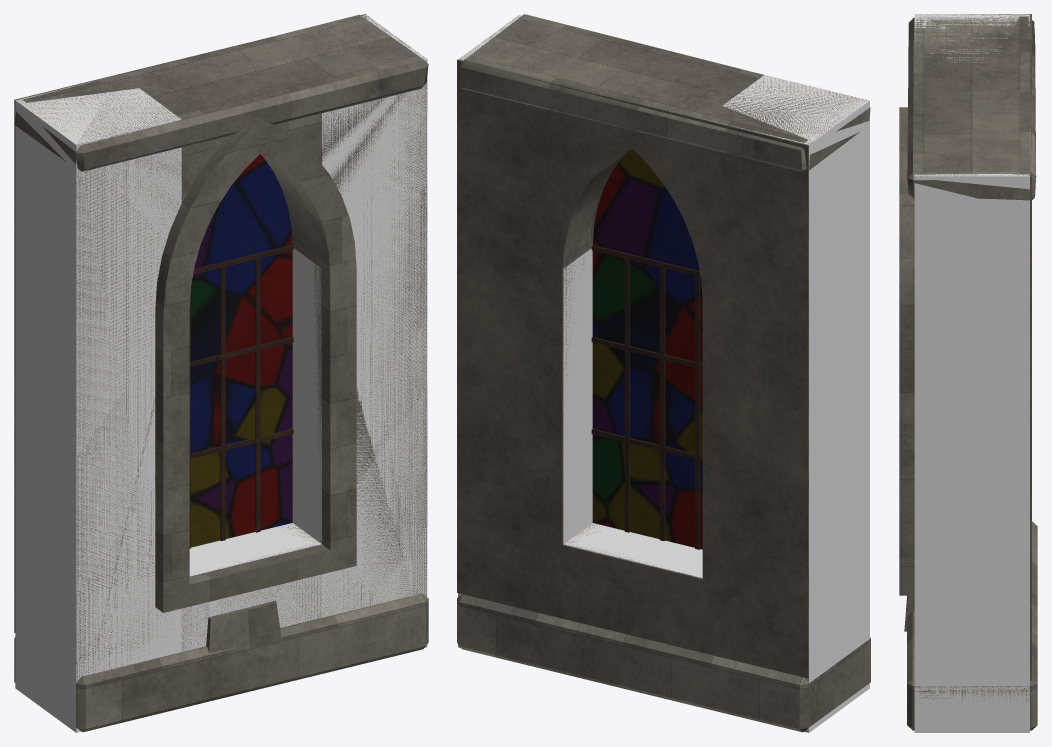
Rendered from ak_wall_stone_2x3_win_gothic.glb.
The picture shows the model from 3 angles, left to right: view 1: azimuth 30°, elevation 25°; view 2: azimuth 150°, elevation 25°; view 3: azimuth 270°, elevation 25°; orthographic projection. The views are drawn at different scales.
Parts seen in each view (by area): view 1: col_wall_L, col_wall_R, wall, wall_stones, surround, glass_stained, col_wall_low, wall_plaster; view 2: wall_plaster, wall_stones, glass_stained, col_wall_L, wall, col_wall_R, col_wall_low; view 3: col_wall_R, wall_stones, wall, surround, col_wall_L, wall_plaster.
Part boxes in pixels (x1,y1,x2,y2): col_wall_L: (15,77,181,732); col_wall_R: (292,15,427,647); wall: (17,15,427,729); wall_stones: (14,14,428,732); surround: (155,117,356,612); glass_stained: (189,154,293,548); col_wall_low: (181,523,321,651); wall_plaster: (14,14,366,632); wall_plaster: (457,59,808,678); wall_stones: (457,14,870,732); glass_stained: (591,149,702,549); col_wall_L: (706,75,869,732); wall: (458,15,867,732); col_wall_R: (458,15,592,647); col_wall_low: (564,523,702,578); col_wall_R: (914,174,1029,732); wall_stones: (904,16,1037,730); wall: (914,14,1029,176); surround: (899,107,914,595); col_wall_L: (914,14,1029,62); wall_plaster: (1030,14,1031,680).
Size of the model in its own units: 2.01 by 3.21 by 0.72.
Materials: 4 (4 with a texture image).
